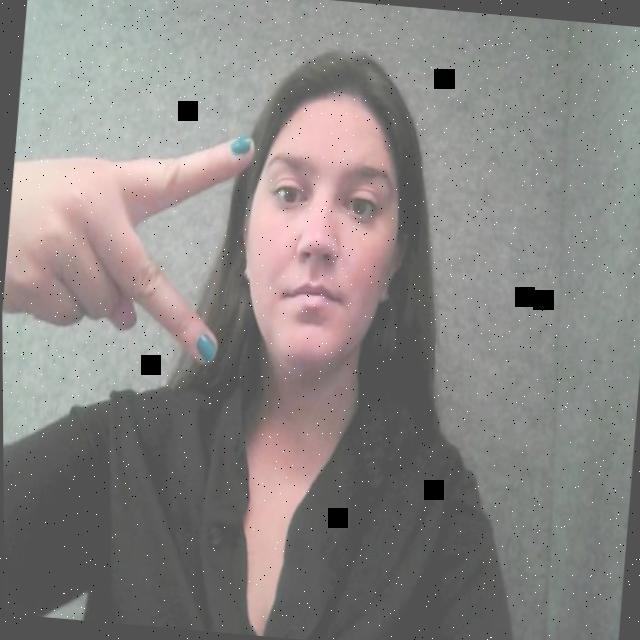Scissors: (3, 112, 269, 384)
